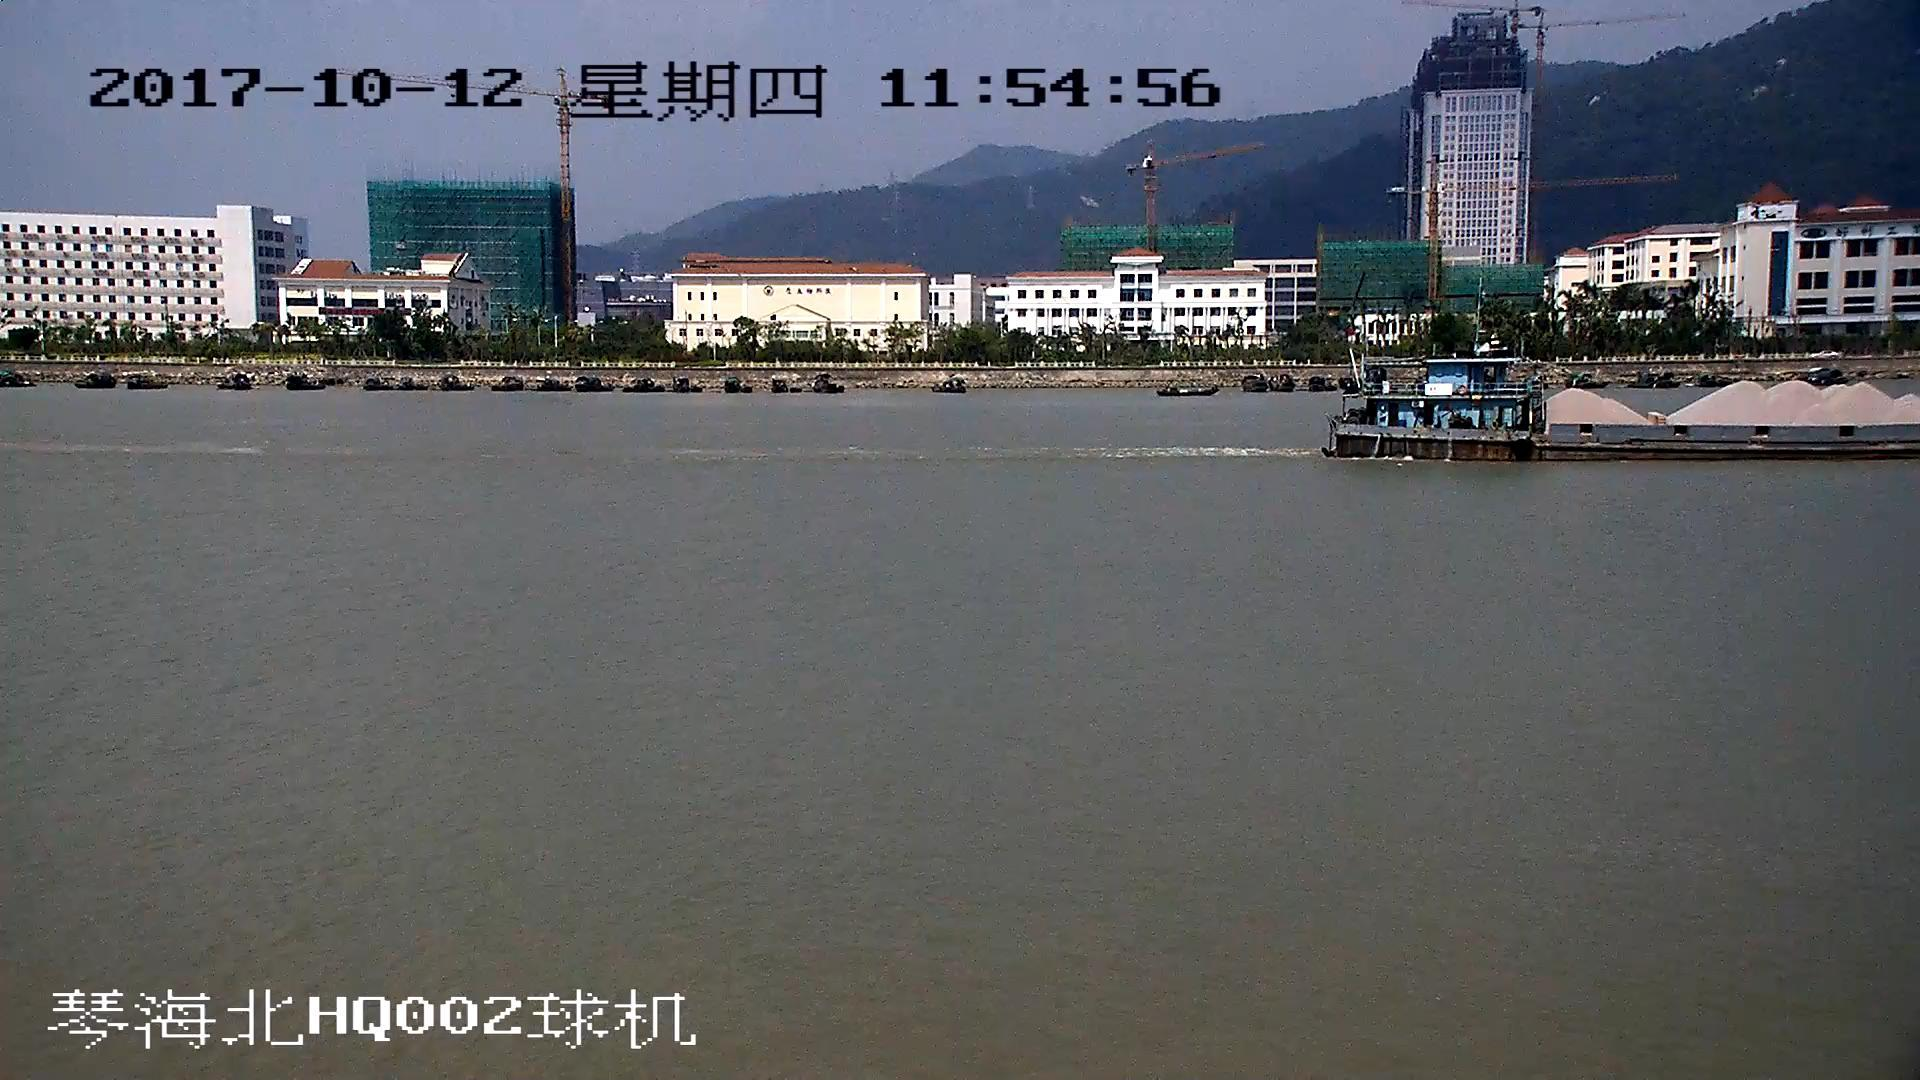Ship: (1328, 360, 1920, 463)
